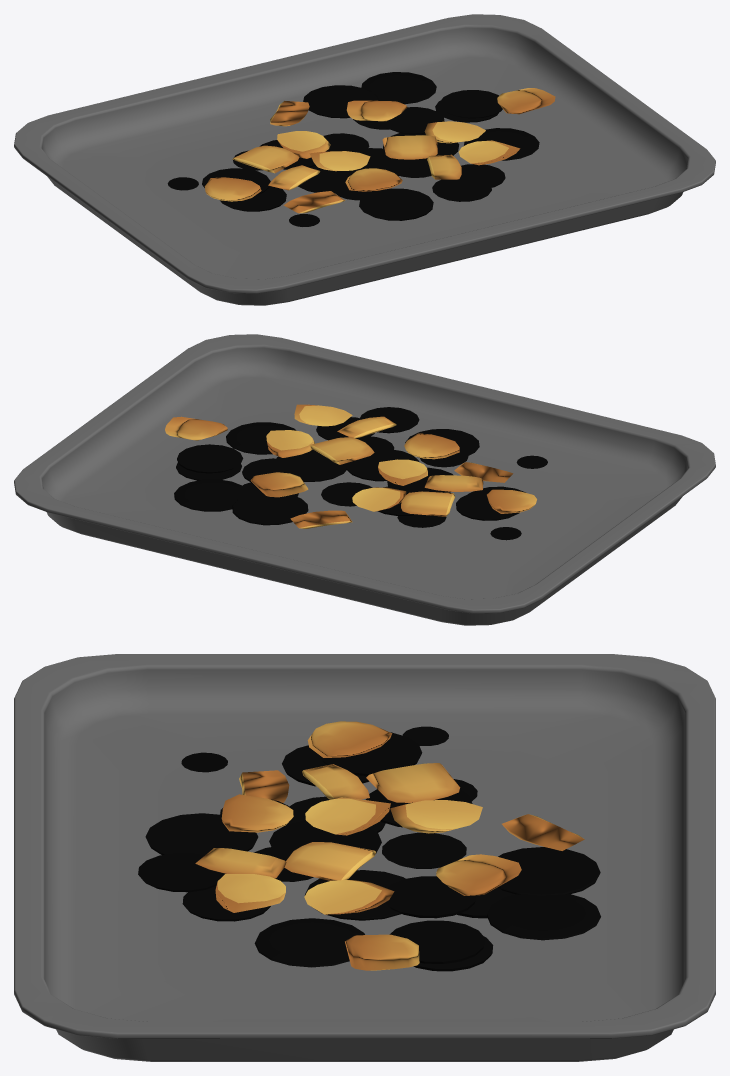
File: vegetable_jerky.glb
3 renders of one model, top to bottom at view 1: azimuth 30°, elevation 25°; view 2: azimuth 150°, elevation 25°; view 3: azimuth 270°, elevation 25°, orthographic. The views are drawn at different scales.
Parts seen in each view (by area): view 1: Tray; view 2: Tray; view 3: Tray.
Boxes of the visible parts, x1,y1,x2,y2 form: Tray: (14,14,715,305); Tray: (14,334,715,625); Tray: (14,654,715,1061).
Bounding box in the file's own units: 3.43 × 0.2706 × 2.68.
3 materials, 1 textured.
